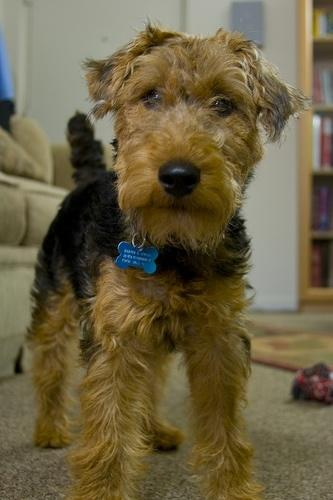dog: (28, 26, 307, 499)
